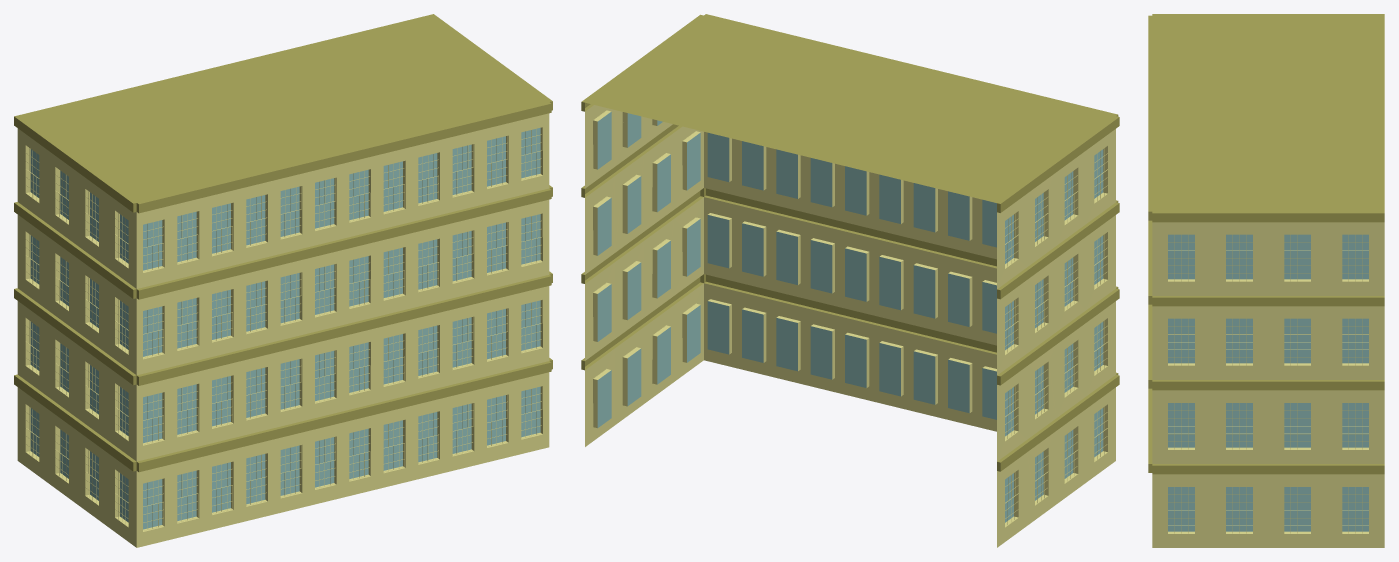
The model's file is BuildingB_Refined.fbx.
3 views of the same model, side by side, from view 1: azimuth 30°, elevation 25°; view 2: azimuth 150°, elevation 25°; view 3: azimuth 270°, elevation 25° (orthographic). The views are drawn at different scales.
Parts seen in each view (by area): view 1: Building_2; view 2: Building_2; view 3: Building_2.
Boxes of the visible parts, left/top/right/bottom form: Building_2: left=14, top=14, right=552, bottom=547; Building_2: left=581, top=14, right=1119, bottom=547; Building_2: left=1148, top=14, right=1384, bottom=547.
Size of the model in its own units: 2441 by 1918 by 1222.
